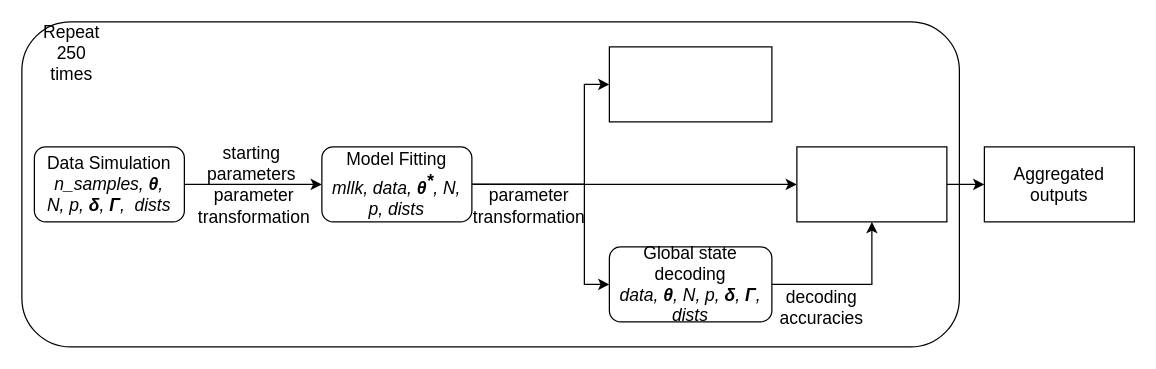
Some shapes in this 1156 by 369 pixel diagram are drawn without their labels. Each missing label, with the centre of its shape:
Performance output: the point at 871,184
Visualization data, θ , N, p, δ , dists: the point at 690,84
